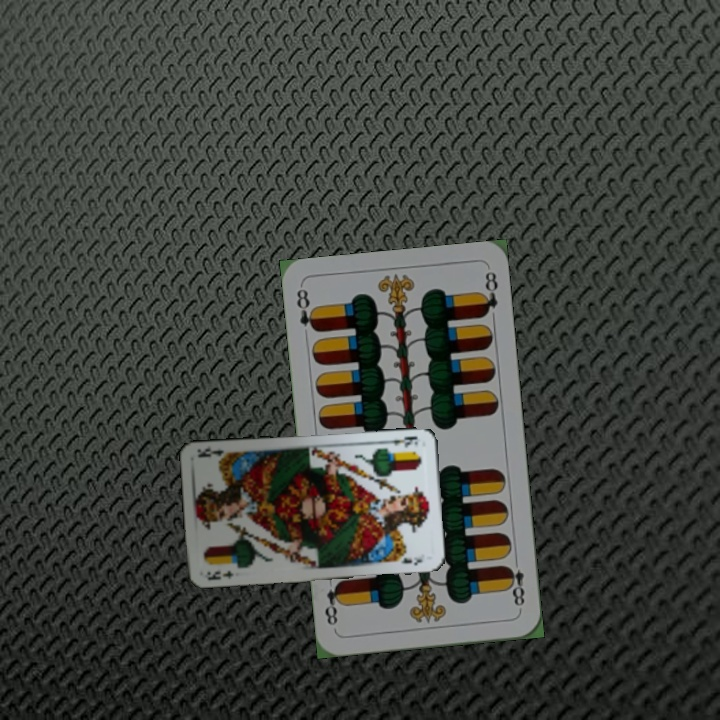E8: (502, 554, 527, 613), (292, 285, 320, 334)
EK: (382, 432, 423, 450), (201, 566, 236, 583)
